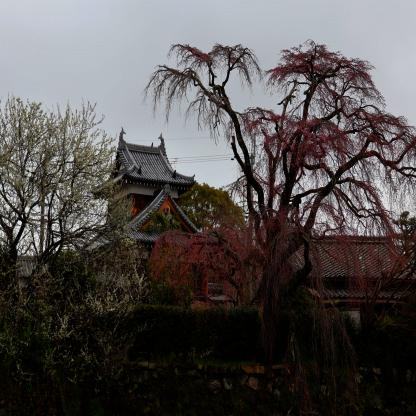Ume: (138, 36, 416, 416), (0, 93, 148, 392)
